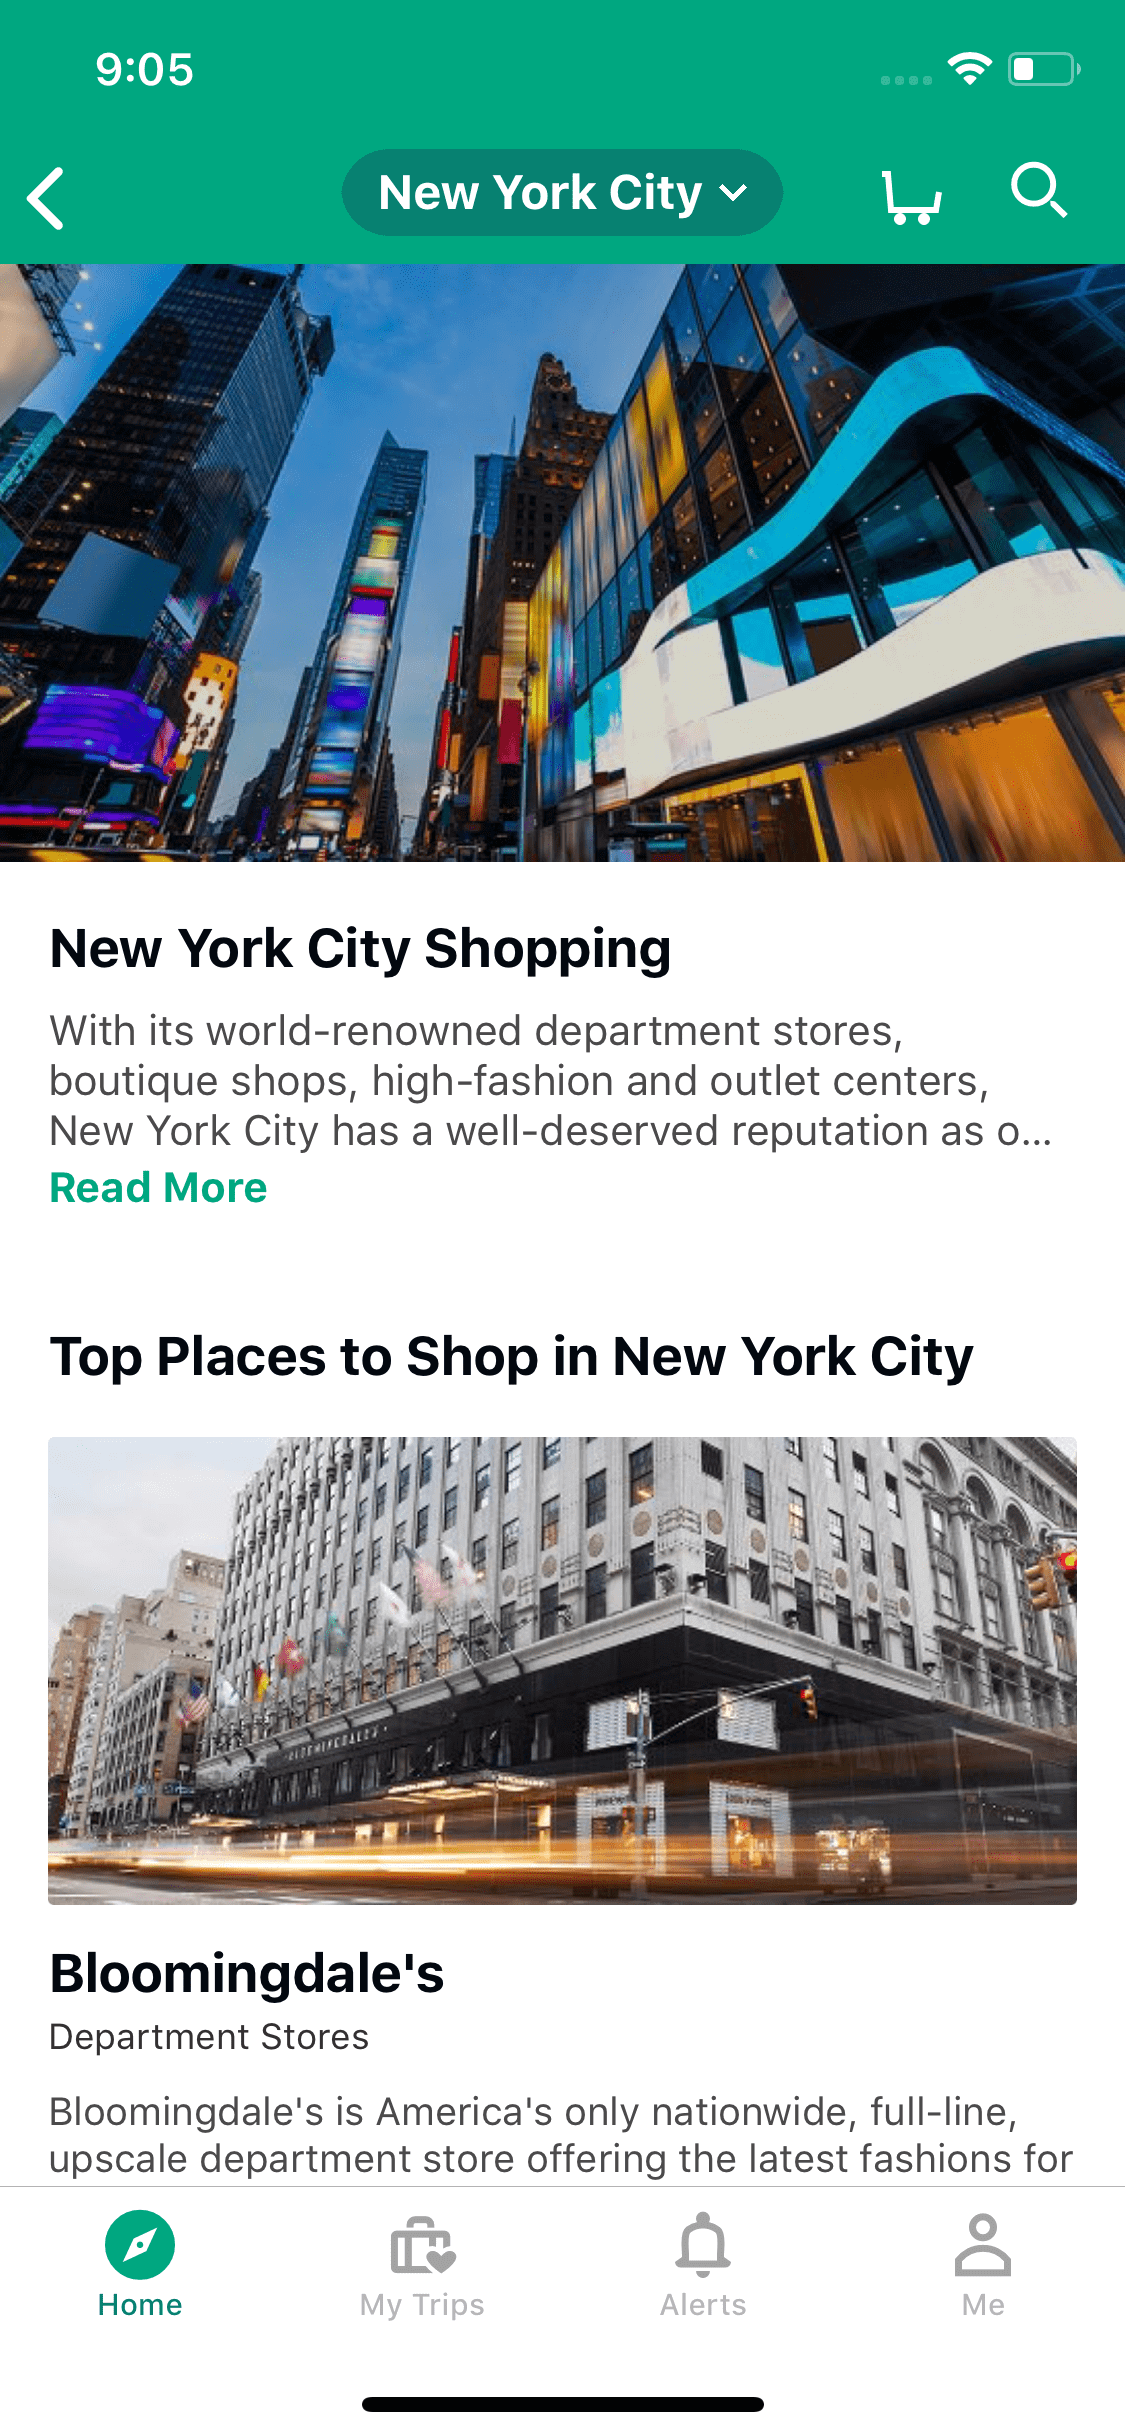Buttons: (336, 134, 792, 239), (853, 130, 968, 245), (996, 126, 1094, 239), (2, 129, 90, 247)
